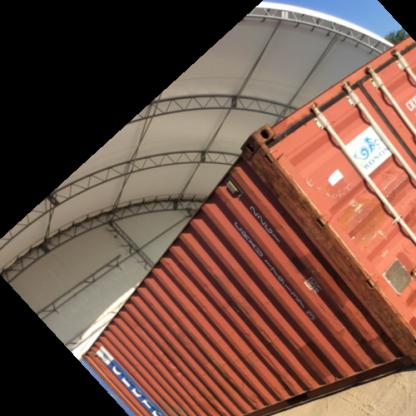Damage: (250, 148, 323, 240), (325, 311, 366, 370), (147, 333, 186, 386), (207, 352, 235, 380), (253, 318, 276, 347), (195, 263, 218, 290), (243, 384, 261, 409)
